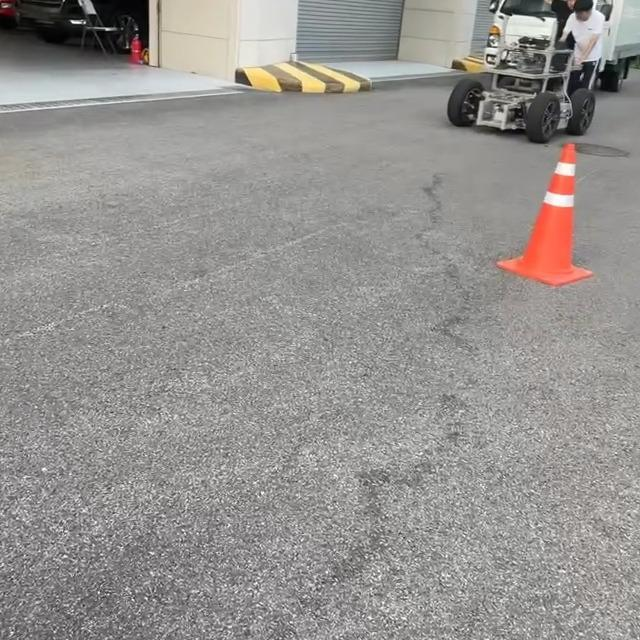fallen_object: (490, 123, 626, 301)
